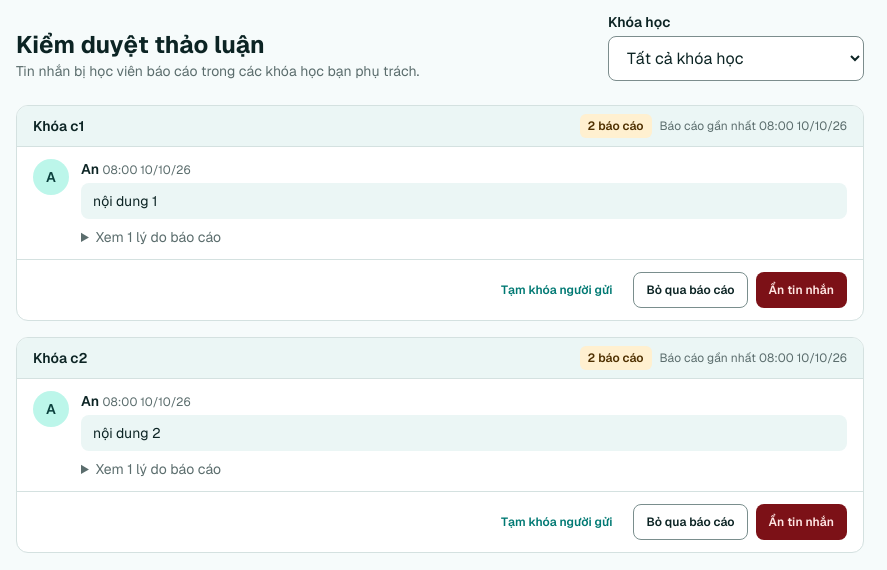
Test: ModerationQueue › filters by course
Select "Khóa c2" in the dropdown labelled "Khóa học". click: (736, 58)
box: 608,36 -> 864,81
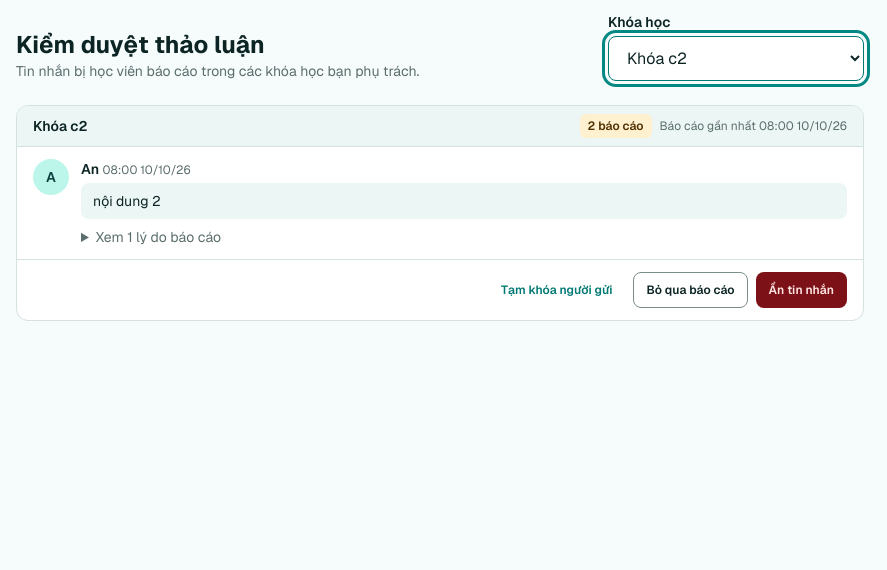
Expected: the text "nội dung 2" is shown, 81,183 -> 847,219
Expected: the number of list items with test id "moderation-item" is 1, 16,105 -> 864,321
